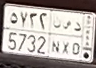2: (37, 13, 47, 54)
3: (28, 12, 37, 53)
5: (7, 12, 18, 51)
7: (18, 11, 29, 51)
D: (72, 22, 82, 55)
N: (51, 16, 62, 53)
X: (62, 20, 71, 54)
